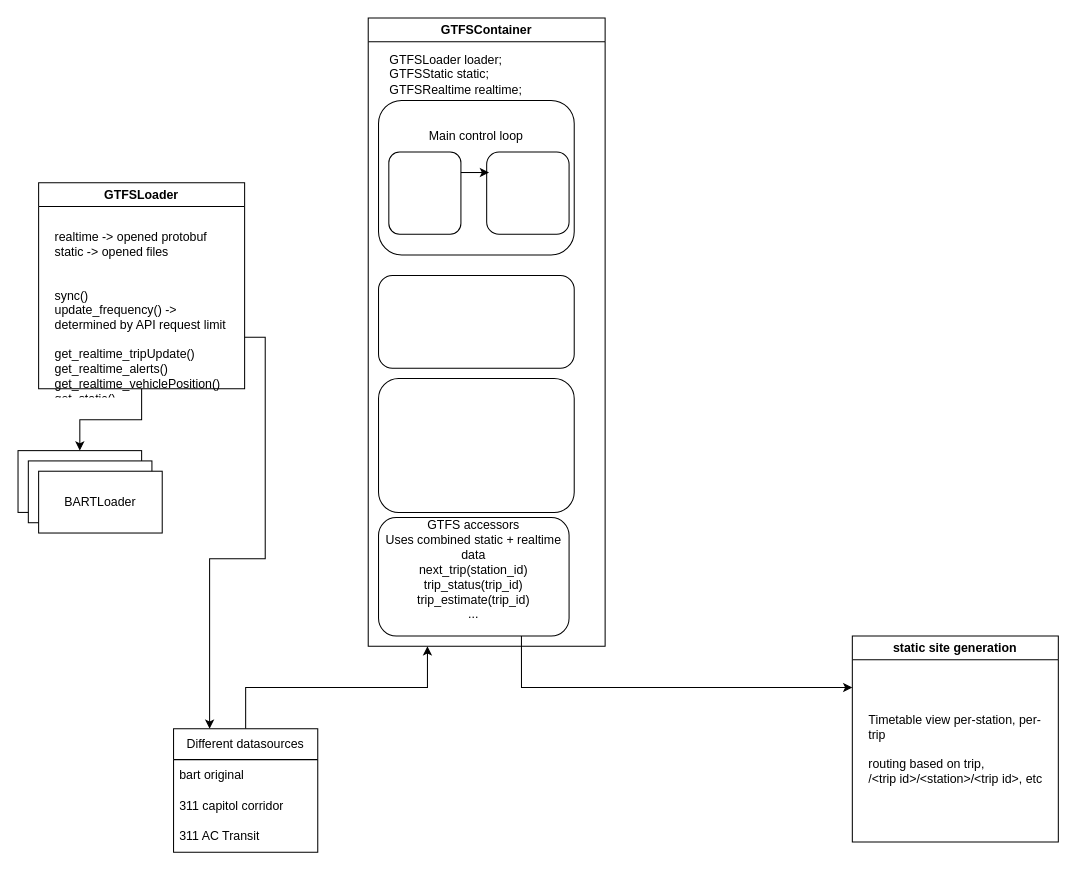
Some shapes in this 1076 by 870 pixel diagram are drawn without their labels. The shapes that lost their labels are listed below. From the top down, each one's centre as x and y in pixels, then its label:
the point at 424,192: Refresh Daemon (on API request limit)
the point at 527,192: Data Save Daemon
the point at 475,321: GTFS stat collection for given time, we can collect trip_late() trip_dwell() ...
the point at 475,444: GTFS Map generation network_bbox() station_locations() vehicle_locations() ...
